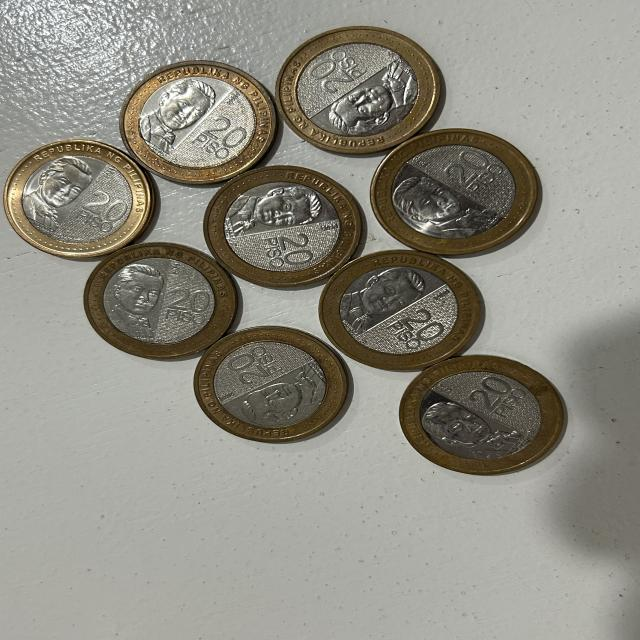20_New_Front: (429, 139, 512, 205), (469, 370, 552, 420), (296, 48, 375, 96), (188, 107, 255, 161), (77, 188, 139, 231), (255, 231, 327, 267), (394, 300, 448, 348), (162, 277, 214, 318), (225, 349, 278, 384)
